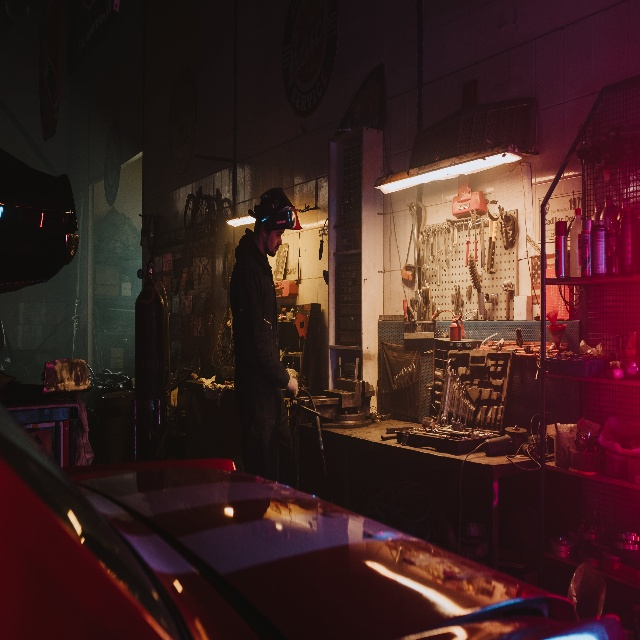Guantes: (286, 376, 299, 397)
